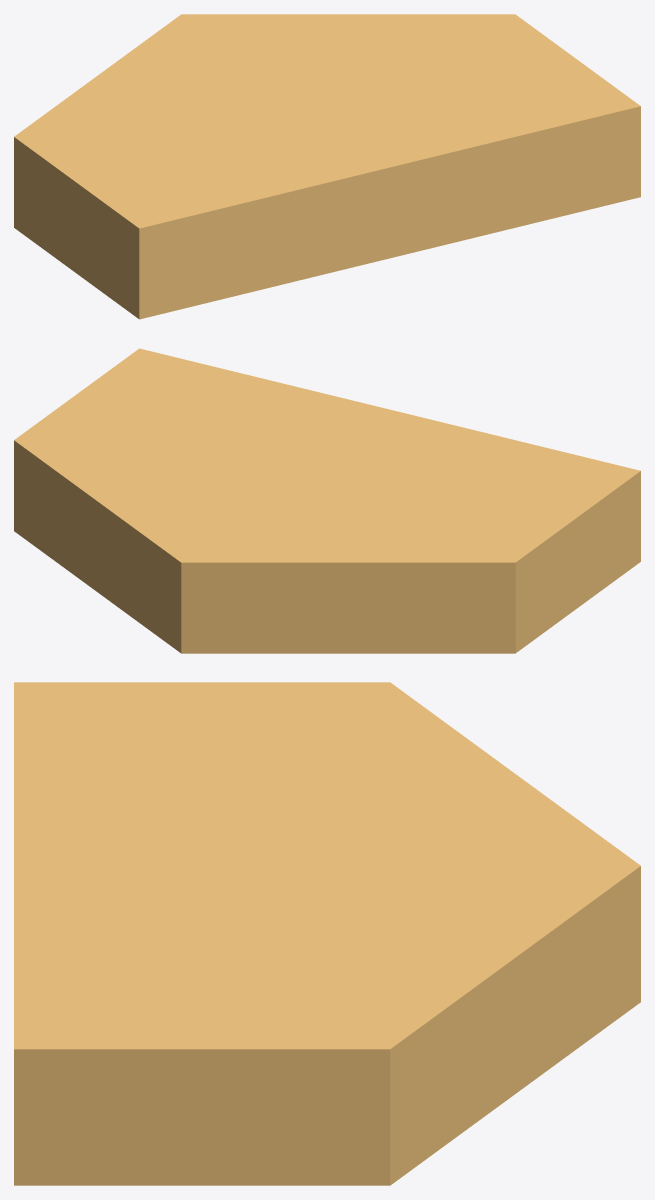
Rendered from _12wall.glb.
3 renders of one model, top to bottom at view 1: azimuth 30°, elevation 25°; view 2: azimuth 150°, elevation 25°; view 3: azimuth 270°, elevation 25°, orthographic. The views are drawn at different scales.
Visible parts, largest first — view 1: VaromaCliff2; view 2: VaromaCliff2; view 3: VaromaCliff2.
Boxes of the visible parts, bbox=[...] form: VaromaCliff2: bbox=[14, 14, 640, 319]; VaromaCliff2: bbox=[14, 348, 640, 653]; VaromaCliff2: bbox=[14, 682, 640, 1185].
Size of the model in its own units: 1.73 by 0.3 by 1.25.
Materials: 1 (1 with a texture image).
